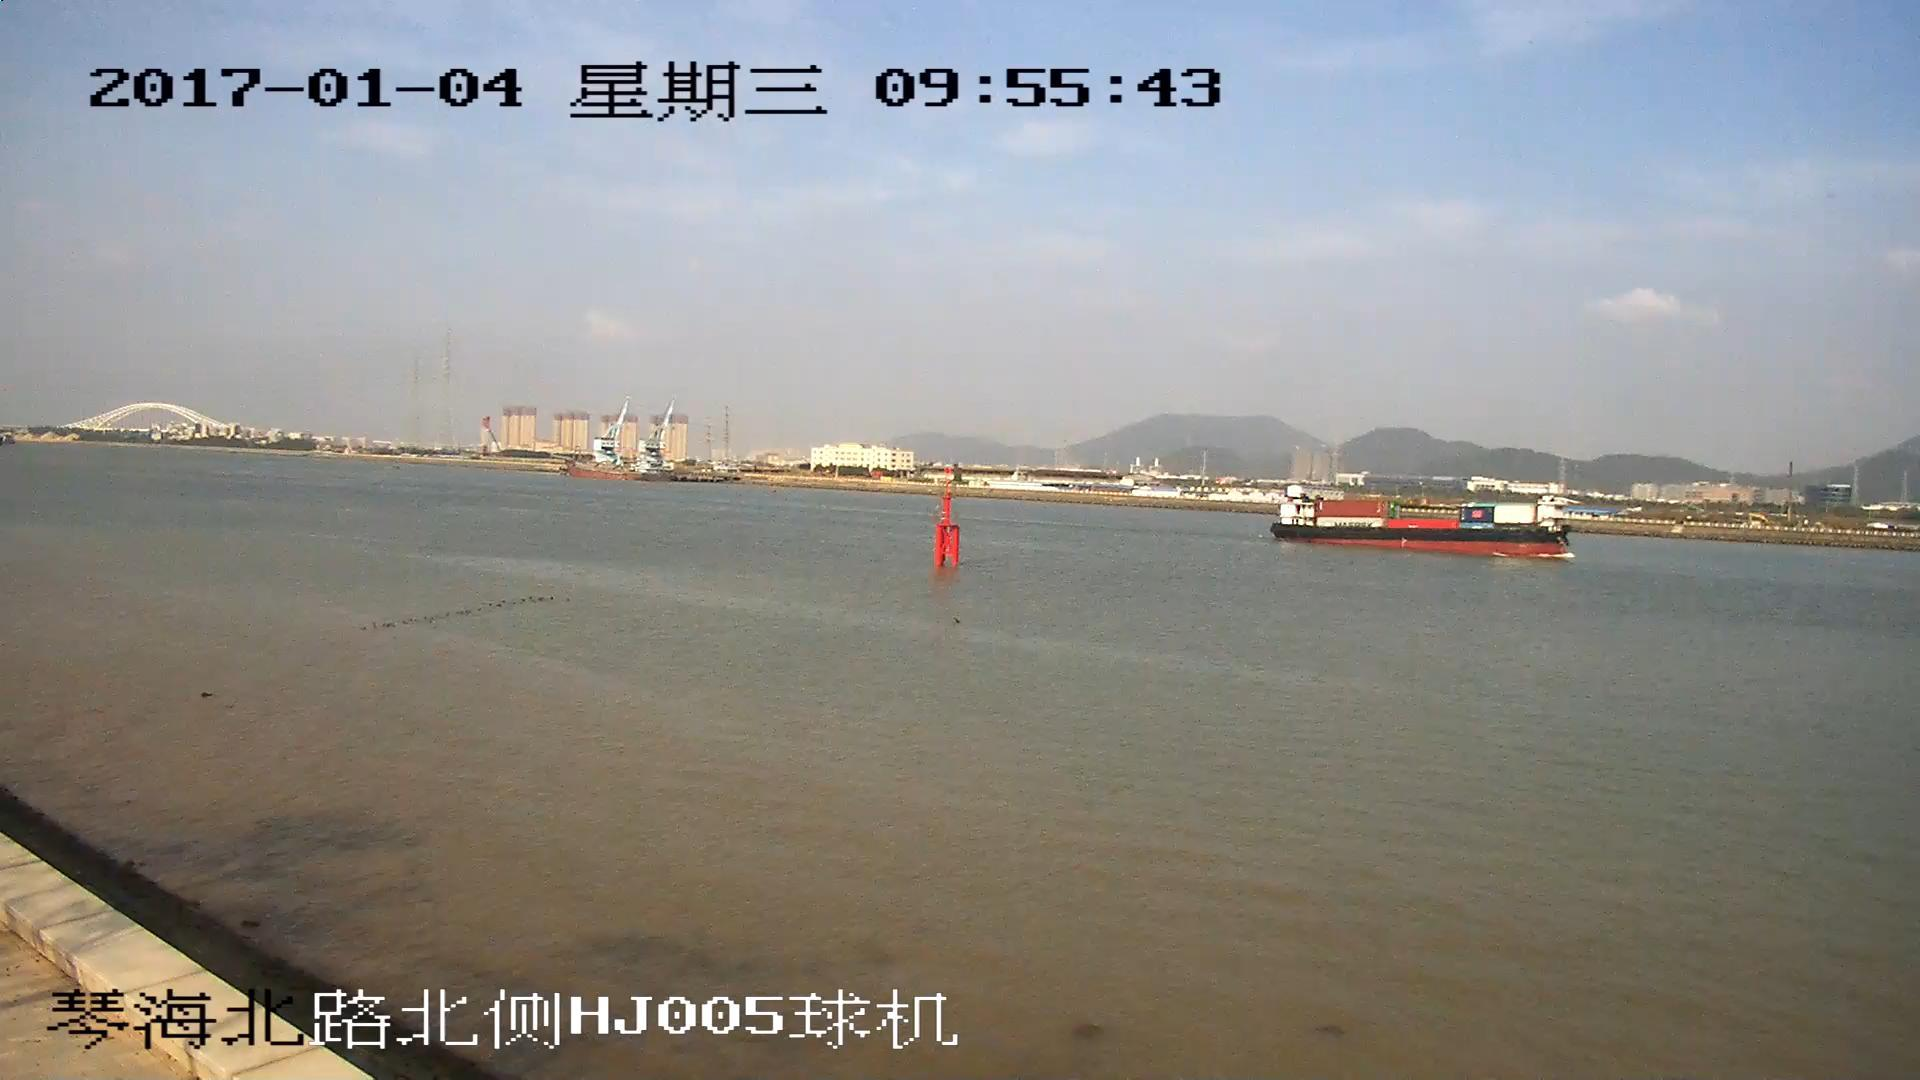Ship: (1274, 487, 1569, 556)
